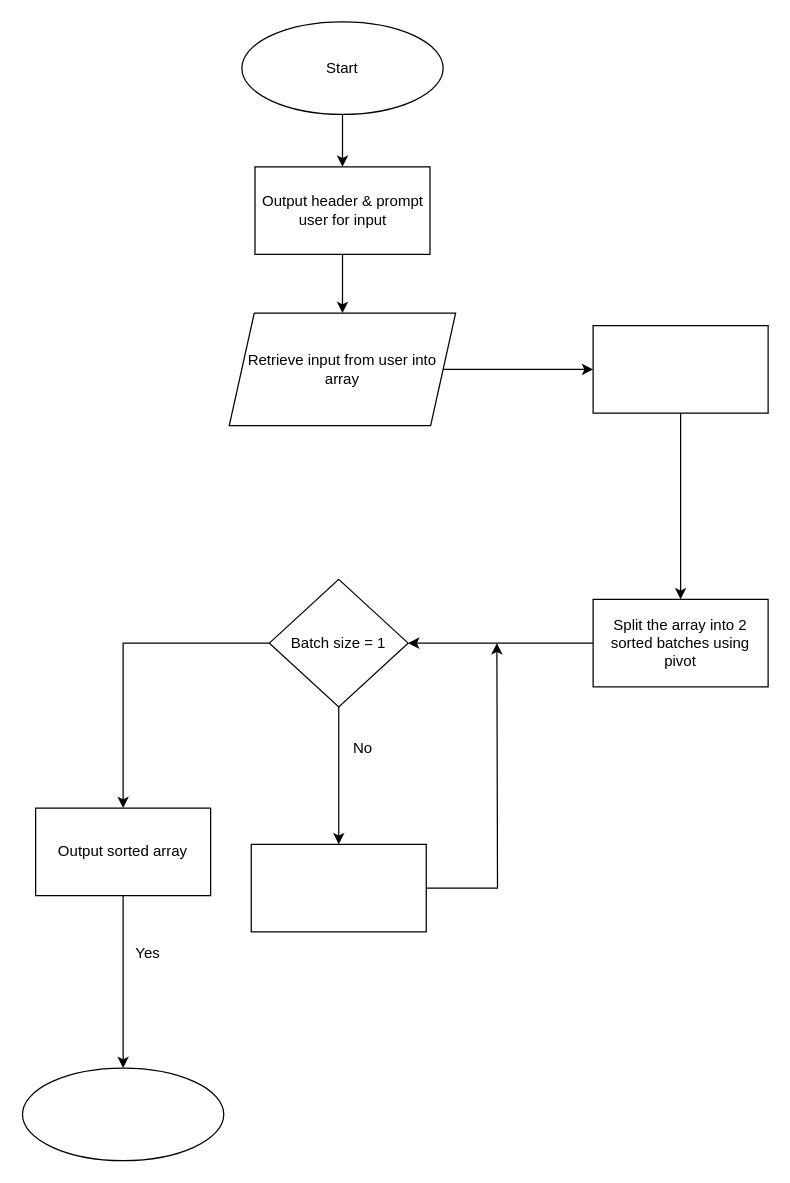
Image size: 790x1183. Some labels were removed from this diagram. The centre of each missing label's shape, as x and y in pixels:
"End" goes at [122,1114].
"Print unsorted array" goes at [680,368].
"Sort each partition set recursively using the quick sort function" goes at [338,887].
